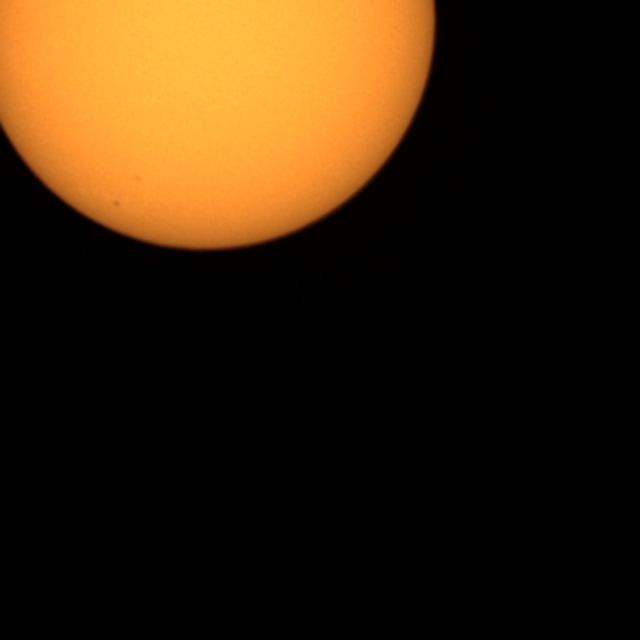sunspot: (111, 198, 122, 210)
